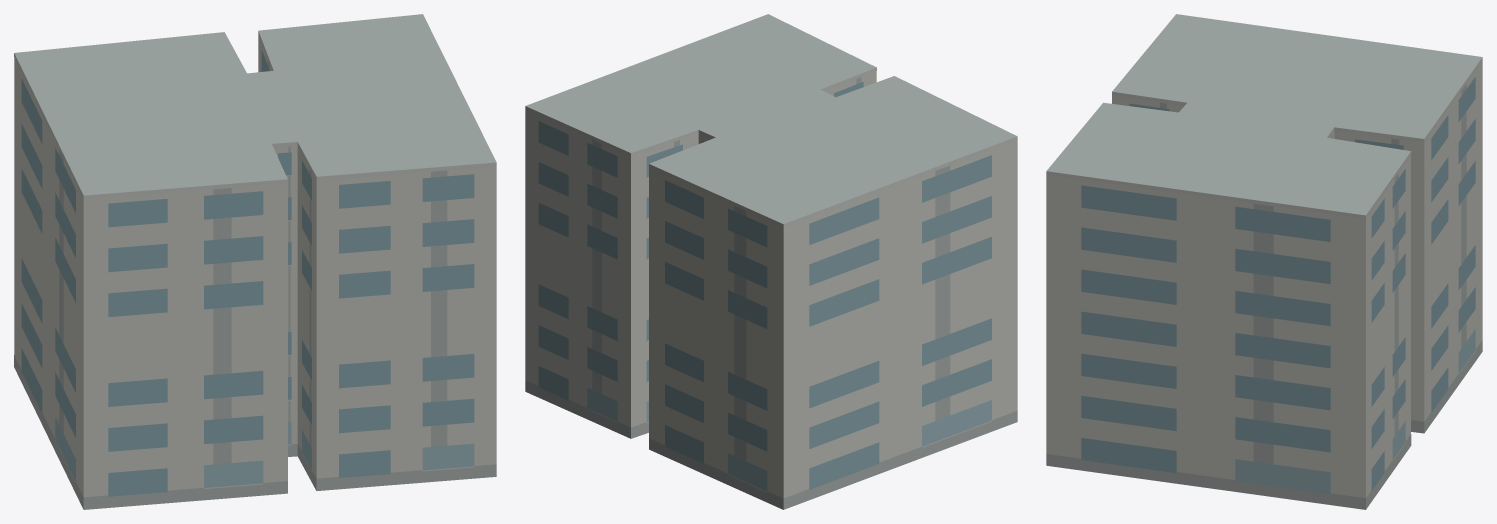
Rendered from survey-upis-32875871.glb.
The picture shows the model from 3 angles, left to right: view 1: azimuth 30°, elevation 25°; view 2: azimuth 150°, elevation 25°; view 3: azimuth 270°, elevation 25°; orthographic projection. The views are drawn at different scales.
Parts seen in each view (by area): view 1: survey-upis-32875871.tmp; view 2: survey-upis-32875871.tmp; view 3: survey-upis-32875871.tmp.
Boxes of the visible parts, x1,y1,x2,y2 form: survey-upis-32875871.tmp: [14, 14, 496, 509]; survey-upis-32875871.tmp: [525, 14, 1017, 509]; survey-upis-32875871.tmp: [1046, 14, 1482, 509].
Bounding box in the file's own units: 27.43 × 18.7 × 25.12.
